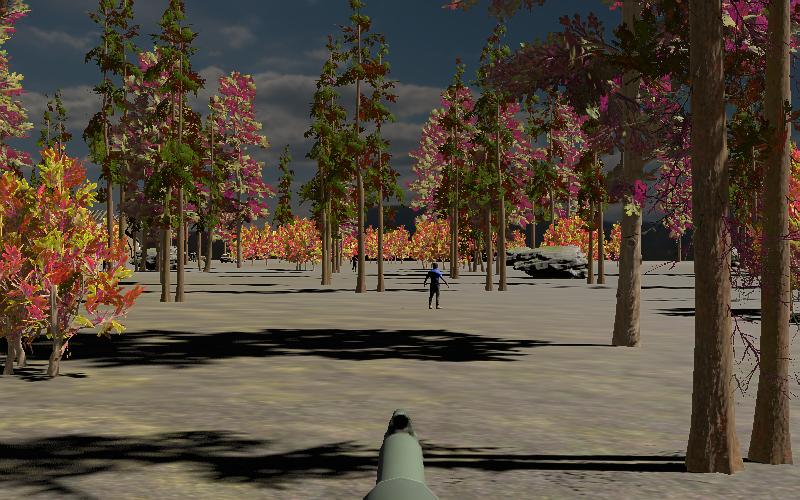Human: (423, 260, 449, 311)
